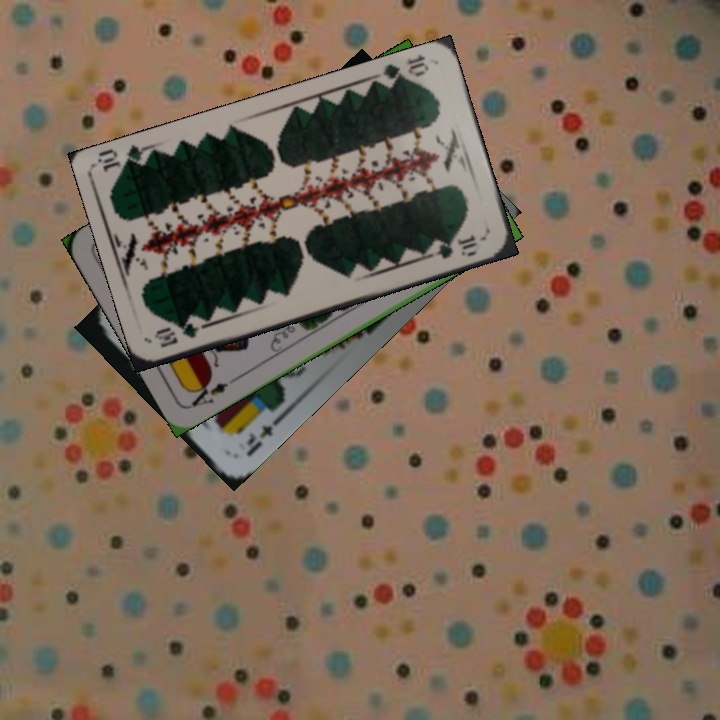EA: (185, 373, 240, 409)
EK: (242, 414, 283, 459)
G10: (373, 52, 432, 91), (150, 314, 210, 351)
